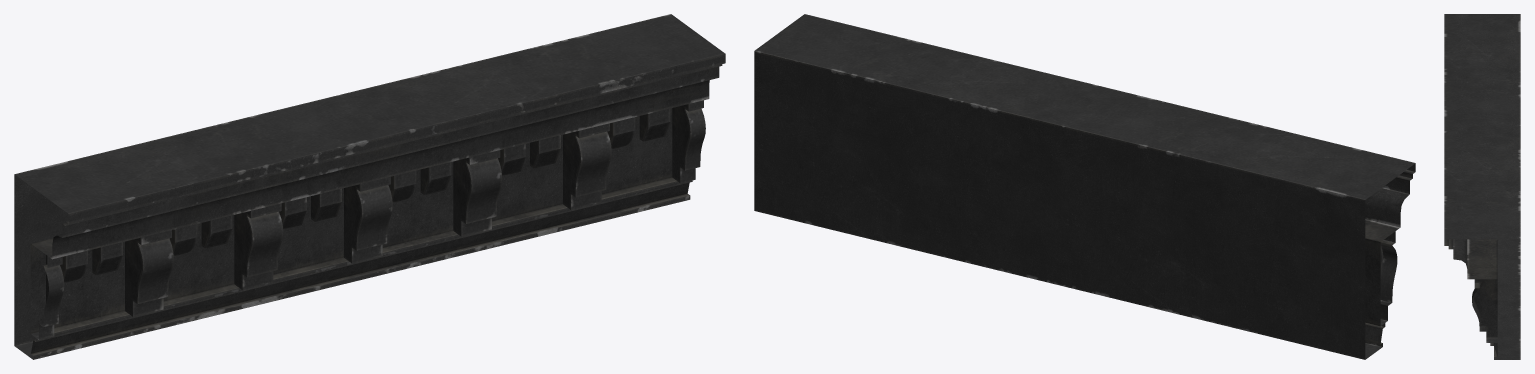
File: crown_standard_standard_01.glb
3 views of the same model, side by side, from view 1: azimuth 30°, elevation 25°; view 2: azimuth 150°, elevation 25°; view 3: azimuth 270°, elevation 25° (orthographic). The views are drawn at different scales.
Parts seen in each view (by area): view 1: crown_standard_standard_01; view 2: crown_standard_standard_01; view 3: crown_standard_standard_01.
Boxes of the visible parts, box(x1,y1,x2,y2) form: crown_standard_standard_01: box(14, 14, 725, 359); crown_standard_standard_01: box(754, 14, 1415, 359); crown_standard_standard_01: box(1444, 14, 1520, 359).
Bounding box in the file's own units: 3 × 0.75 × 0.43.
1 material, 1 textured.
